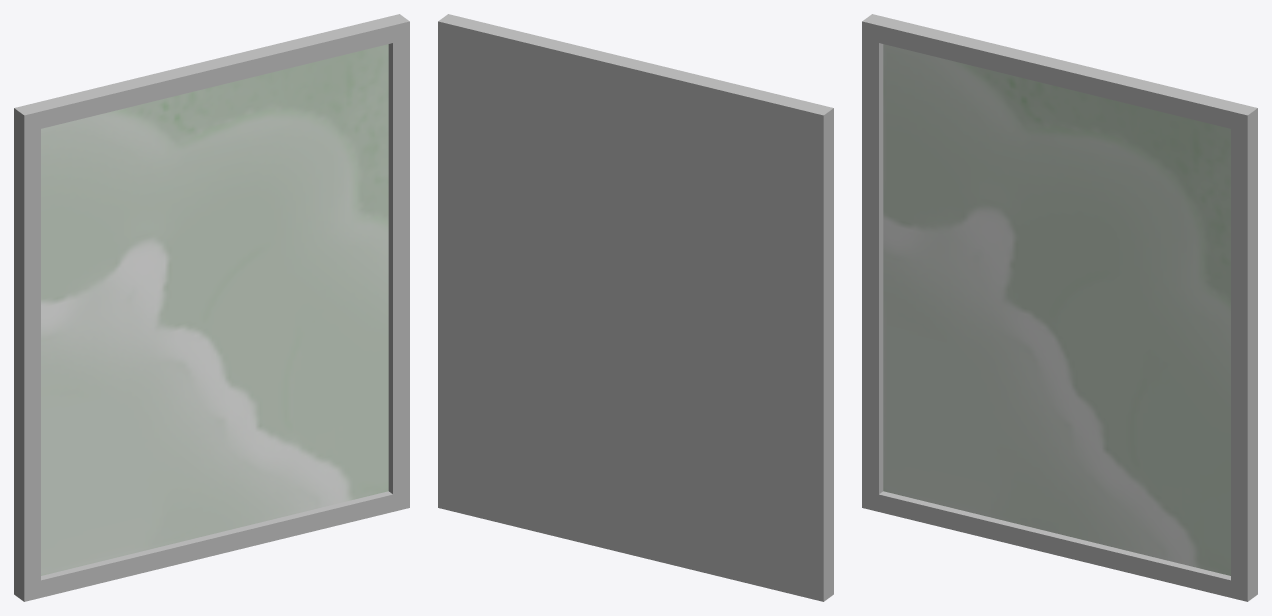
The model's file is SM_Props_Paintnig_05.fbx.
3 renders of one model, left to right at view 1: azimuth 30°, elevation 25°; view 2: azimuth 150°, elevation 25°; view 3: azimuth 330°, elevation 25°, orthographic.
Parts seen in each view (by area): view 1: SM_Props_Paintnig_05; view 2: SM_Props_Paintnig_05; view 3: SM_Props_Paintnig_05.
Boxes of the visible parts, x1,y1,x2,y2 form: SM_Props_Paintnig_05: (14,14,409,601); SM_Props_Paintnig_05: (438,14,833,601); SM_Props_Paintnig_05: (862,14,1257,601).
Size of the model in its own units: 0.5988 by 0.7219 by 0.0273.
